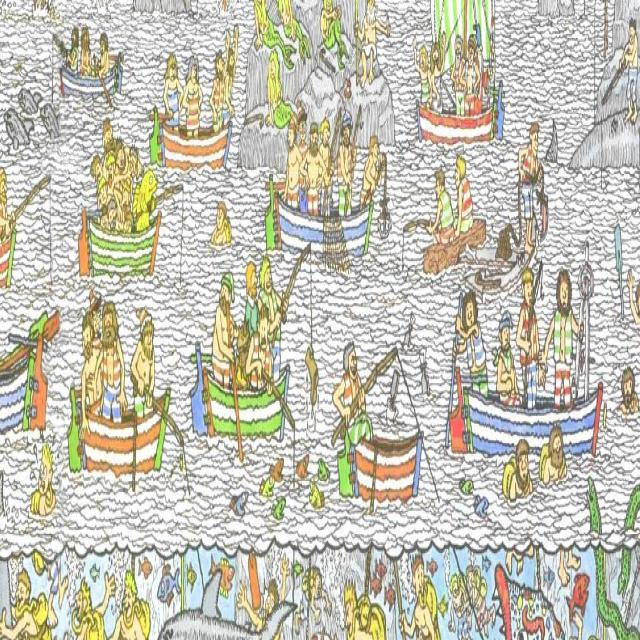waldo: (296, 100, 308, 142)
